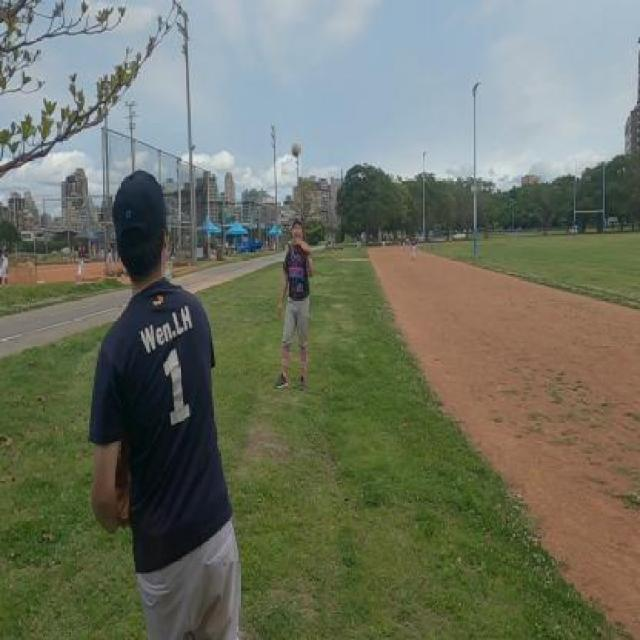baseball: (291, 140, 300, 158)
